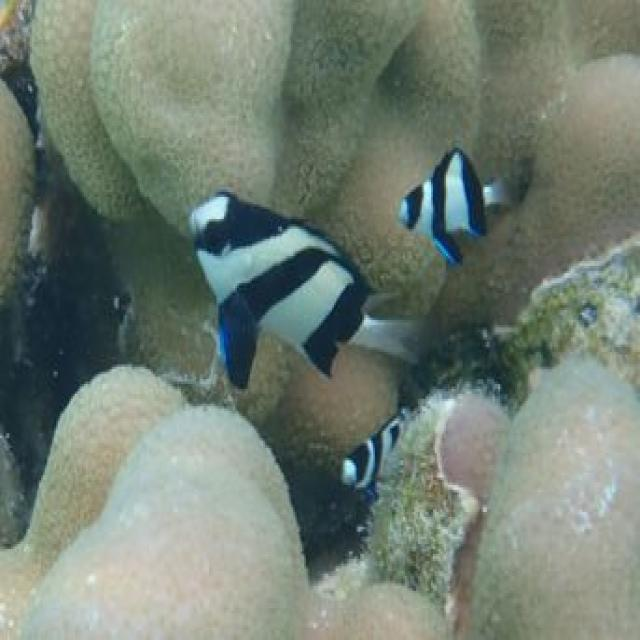ThreeStripedDamselfish: (188, 192, 418, 391), (397, 148, 504, 266)
